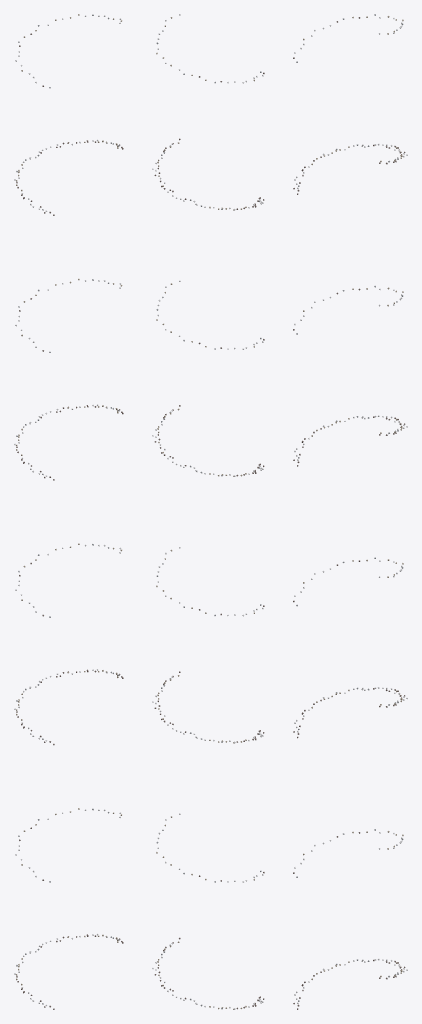
File: Circle1Crowd0Heads.obj
The picture shows the model from 3 angles, left to right: view 1: azimuth 30°, elevation 25°; view 2: azimuth 150°, elevation 25°; view 3: azimuth 330°, elevation 25°; orthographic projection. The views are drawn at different scales.
Visible parts, largest first — view 1: Circle1Crowd0Heads; view 2: Circle1Crowd0Heads; view 3: Circle1Crowd0Heads.
Part boxes in pixels (bbox=[...]): Circle1Crowd0Heads: bbox=[14, 14, 123, 1009]; Circle1Crowd0Heads: bbox=[152, 14, 264, 1009]; Circle1Crowd0Heads: bbox=[293, 14, 407, 1009].
Bounding box in the file's own units: 29.86 × 292 × 25.32.
1 material, 1 textured.
